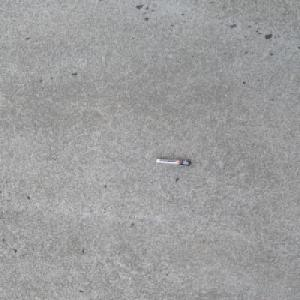Battery: (154, 158, 192, 165)
